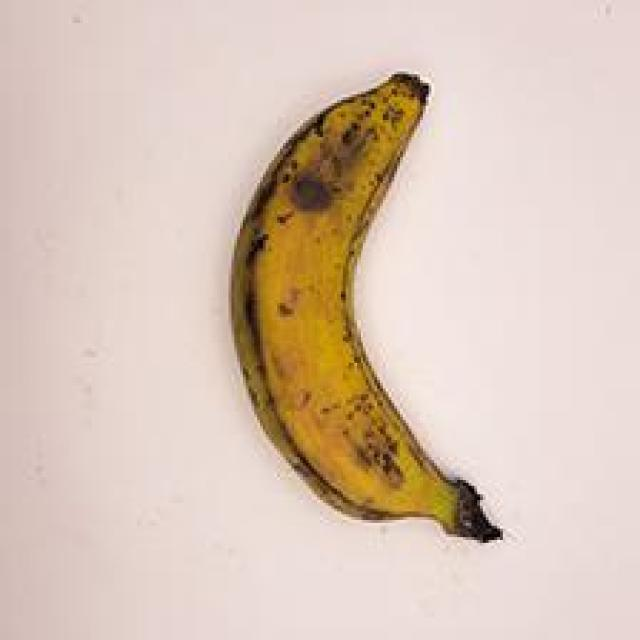Overripe: (205, 62, 530, 550)
